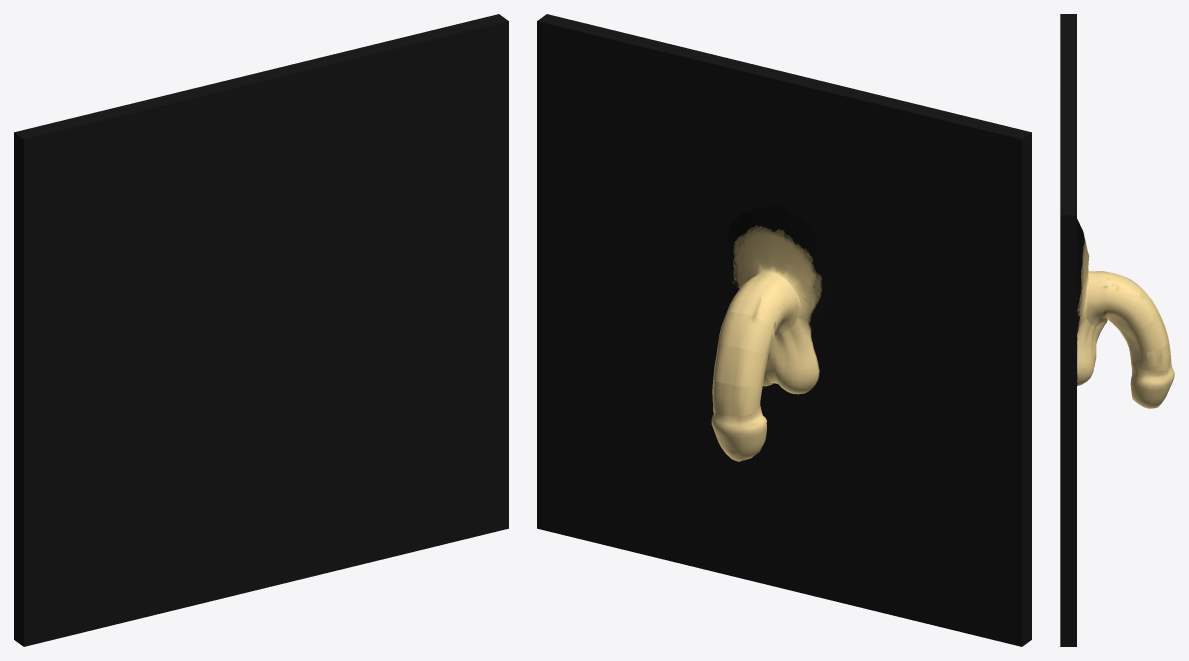
Rendered from square.glb.
3 views of the same model, side by side, from view 1: azimuth 30°, elevation 25°; view 2: azimuth 150°, elevation 25°; view 3: azimuth 270°, elevation 25° (orthographic). The views are drawn at different scales.
Parts seen in each view (by area): view 1: Object_2; view 2: Object_2; view 3: Object_2.
Part boxes in pixels (left/top/right/bottom): Object_2: left=14, top=14, right=508, bottom=646; Object_2: left=537, top=14, right=1031, bottom=646; Object_2: left=1060, top=14, right=1174, bottom=646.
Bounding box in the file's own units: 200 × 200 × 47.99.
1 material, 1 textured.
